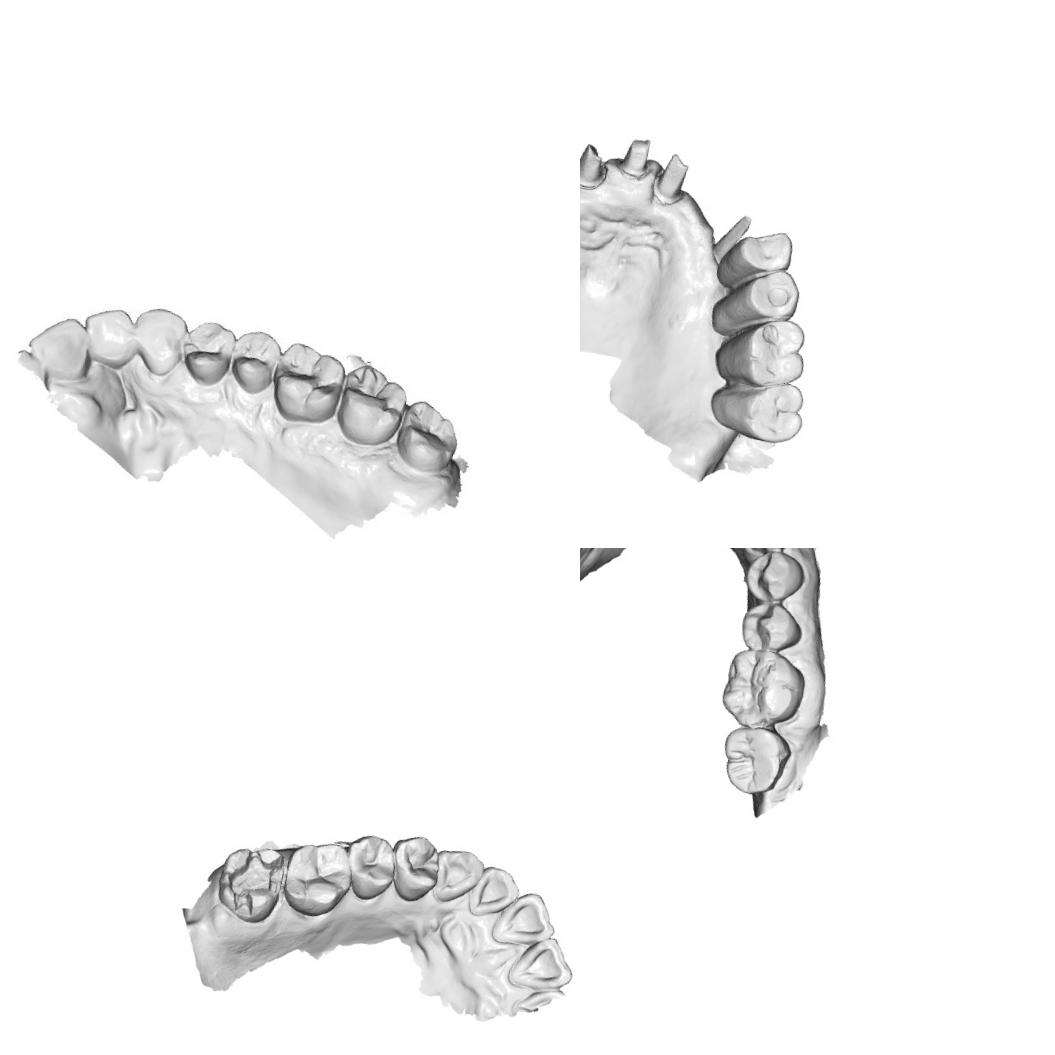canine: (126, 302, 191, 380), (426, 842, 486, 910)
crown: (706, 206, 756, 269), (648, 148, 692, 210), (615, 133, 654, 182), (580, 140, 608, 192)
incisor: (486, 883, 562, 954), (503, 927, 580, 996), (22, 306, 94, 377), (78, 300, 140, 368), (464, 860, 525, 924)
inlay: (216, 842, 286, 922)
molar: (710, 306, 812, 396), (715, 642, 810, 736), (704, 368, 808, 449), (329, 354, 414, 452), (264, 336, 352, 429), (278, 832, 360, 924), (714, 720, 796, 801), (388, 395, 464, 475)
premolar: (706, 258, 803, 349), (712, 220, 796, 298), (336, 828, 400, 906), (382, 829, 443, 907), (175, 314, 238, 388), (223, 324, 283, 399), (736, 594, 806, 658), (740, 548, 807, 608)
